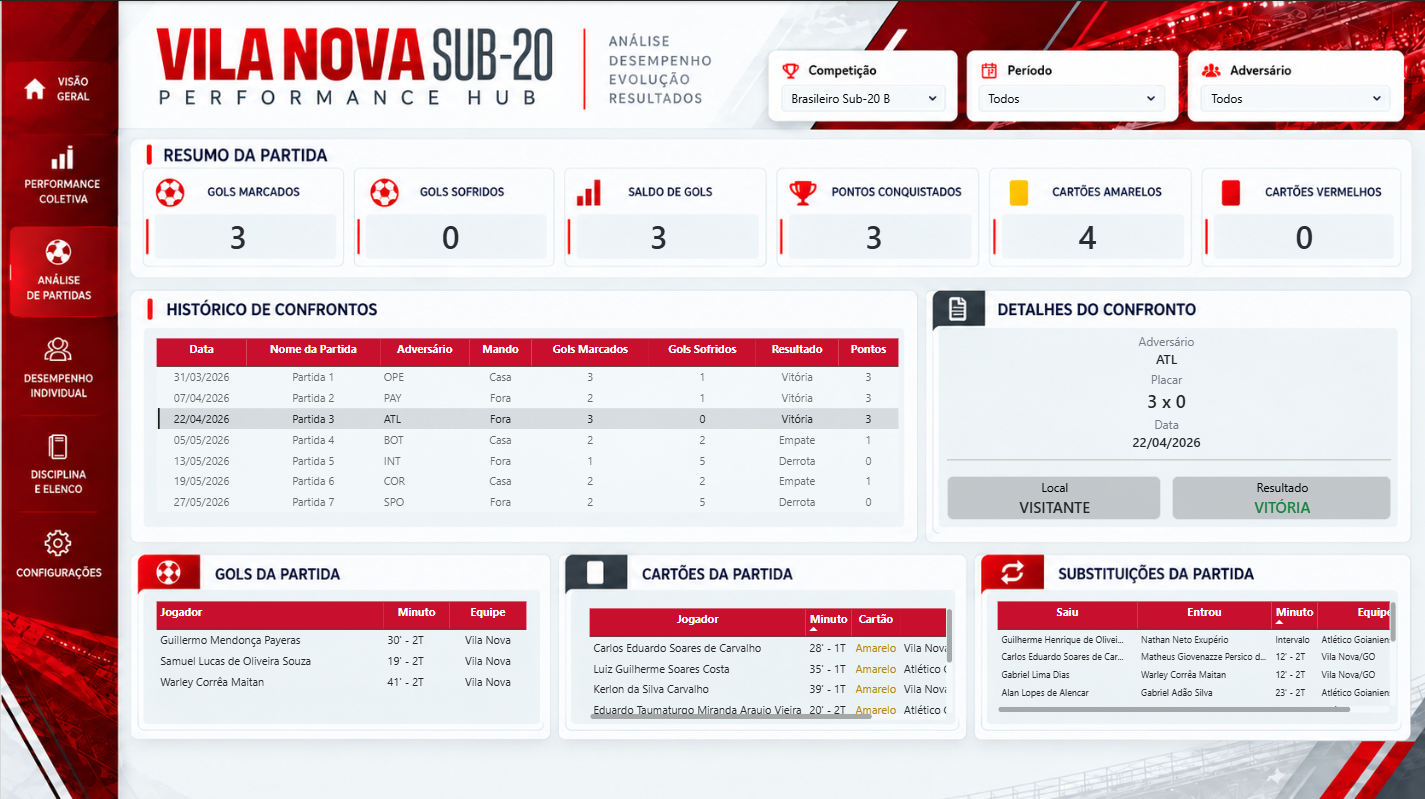

Layout of this report page (visuals, bound fields, positions):
{"tool":"powerbi","page":{"name":"03 - Análise de Partidas","canvas":[1920,1080],"ordinal":2},"visuals":[{"type":"cardVisual","fields":{"Data":["Medidas.Gols Marcados"]},"box":[192.6,277.4,253.2,79.5],"z":0},{"type":"cardVisual","fields":{"Data":["Medidas.Gols Sofridos"]},"box":[484.8,285.5,241,60.6],"z":1000},{"type":"cardVisual","fields":{"Data":["Medidas.Saldo de Gols"]},"box":[766.2,285.5,239.7,60.6],"z":2000},{"type":"cardVisual","fields":{"Data":["Medidas.Pontos Conquistados"]},"box":[1053.1,285.5,245.1,60.6],"z":3000},{"type":"cardVisual","fields":{"Data":["Medidas.Cartões Amarelos"]},"box":[1339.9,285.5,246.4,60.6],"z":4000},{"type":"cardVisual","fields":{"Data":["Medidas.Cartões Vermelhos"]},"box":[1632.1,285.5,246.4,60.6],"z":5000},{"type":"slicer","fields":{"Values":["fato_partidas.competicao"]},"box":[1053.1,109.1,220.8,36.4],"z":6000},{"type":"slicer","fields":{"Values":["dim_calendario.Data"]},"box":[1318.4,109.1,243.7,45.8],"z":7000},{"type":"slicer","fields":{"Values":["dim_partidas.Adversário"]},"box":[1618.7,109.1,253.2,36.4],"z":8000},{"type":"tableEx","fields":{"Values":["dim_partidas.data","dim_partidas.Nome da Partida","dim_partidas.Adversário","dim_partidas.mando_vila","Medidas.Gols Marcados","Medidas.Gols Sofridos","dim_partidas.resultado","Medidas.Pontos por Partida"]},"box":[192.6,440.3,1035.6,274.7],"z":9000},{"type":"cardVisual","fields":{"Data":["Medidas.Adversário Selecionado","Medidas.Placar do Confronto","Medidas.Data da Partida Selecionada"]},"box":[1260,447.3,618,160],"z":10000},{"type":"cardVisual","fields":{"Data":["Medidas.Local da Partida"]},"box":[1274,640,288,59],"z":11000},{"type":"cardVisual","fields":{"Data":["Medidas.Resultado da Partida"]},"box":[1577,640,295,59],"z":12000},{"type":"shape","box":[1273.6,603.6,598.2,29.1],"z":13000},{"type":"tableEx","fields":{"Values":["fato_gols.jogador","fato_gols.Minuto Formatado","fato_gols.equipe_beneficiada"]},"box":[192.6,794.5,533.3,189.9],"z":14000},{"type":"tableEx","fields":{"Values":["fato_cartoes_partida.jogador","fato_cartoes_partida.Minuto Formatado","fato_cartoes_partida.tipo_cartao","fato_cartoes_partida.equipe"]},"box":[758.2,794.5,540,198],"z":15000},{"type":"tableEx","fields":{"Values":["fato_substituicoes.jogador_saiu","fato_substituicoes.jogador_entrou","fato_substituicoes.Minuto Formatado","fato_substituicoes.equipe"]},"box":[1325.1,794.5,569.6,198],"z":16000},{"type":"actionButton","box":[37.7,88.9,107.7,56.6],"z":17000},{"type":"actionButton","box":[18.9,187.2,117.2,90.2],"z":18000},{"type":"actionButton","box":[28.3,444.4,103.7,83.5],"z":19000},{"type":"actionButton","box":[37.7,597.9,103.7,70],"z":20000},{"type":"actionButton","box":[28.3,568.3,103.7,76.8],"z":21000}]}

Visuals, with their boxes on the page's 1920x1080 design canvas (x1, y1, x2, y2). These are canvas units, not pixel positions in the 1425x799 screenshot, which may show the page scaled, cropped or inside an application window:
cardVisual - Medidas.Gols Marcados: box=[193, 277, 446, 357]
cardVisual - Medidas.Gols Sofridos: box=[485, 286, 726, 346]
cardVisual - Medidas.Saldo de Gols: box=[766, 286, 1006, 346]
cardVisual - Medidas.Pontos Conquistados: box=[1053, 286, 1298, 346]
cardVisual - Medidas.Cartões Amarelos: box=[1340, 286, 1586, 346]
cardVisual - Medidas.Cartões Vermelhos: box=[1632, 286, 1878, 346]
slicer - fato_partidas.competicao: box=[1053, 109, 1274, 146]
slicer - dim_calendario.Data: box=[1318, 109, 1562, 155]
slicer - dim_partidas.Adversário: box=[1619, 109, 1872, 146]
tableEx - dim_partidas.data x dim_partidas.Nome da Partida: box=[193, 440, 1228, 715]
cardVisual - Medidas.Adversário Selecionado x Medidas.Placar do Confronto: box=[1260, 447, 1878, 607]
cardVisual - Medidas.Local da Partida: box=[1274, 640, 1562, 699]
cardVisual - Medidas.Resultado da Partida: box=[1577, 640, 1872, 699]
shape: box=[1274, 604, 1872, 633]
tableEx - fato_gols.jogador x fato_gols.Minuto Formatado: box=[193, 794, 726, 984]
tableEx - fato_cartoes_partida.jogador x fato_cartoes_partida.Minuto Formatado: box=[758, 794, 1298, 992]
tableEx - fato_substituicoes.jogador_saiu x fato_substituicoes.jogador_entrou: box=[1325, 794, 1895, 992]
actionButton: box=[38, 89, 145, 146]
actionButton: box=[19, 187, 136, 277]
actionButton: box=[28, 444, 132, 528]
actionButton: box=[38, 598, 141, 668]
actionButton: box=[28, 568, 132, 645]
